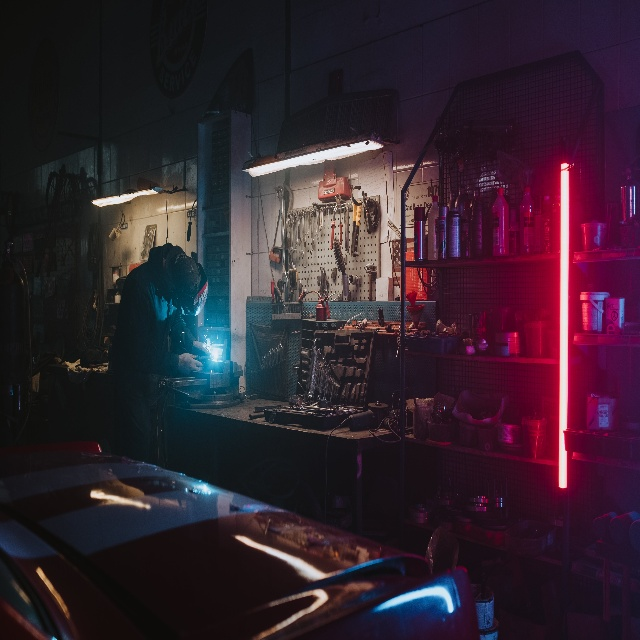Guantes: (177, 352, 203, 378), (193, 339, 211, 356)
